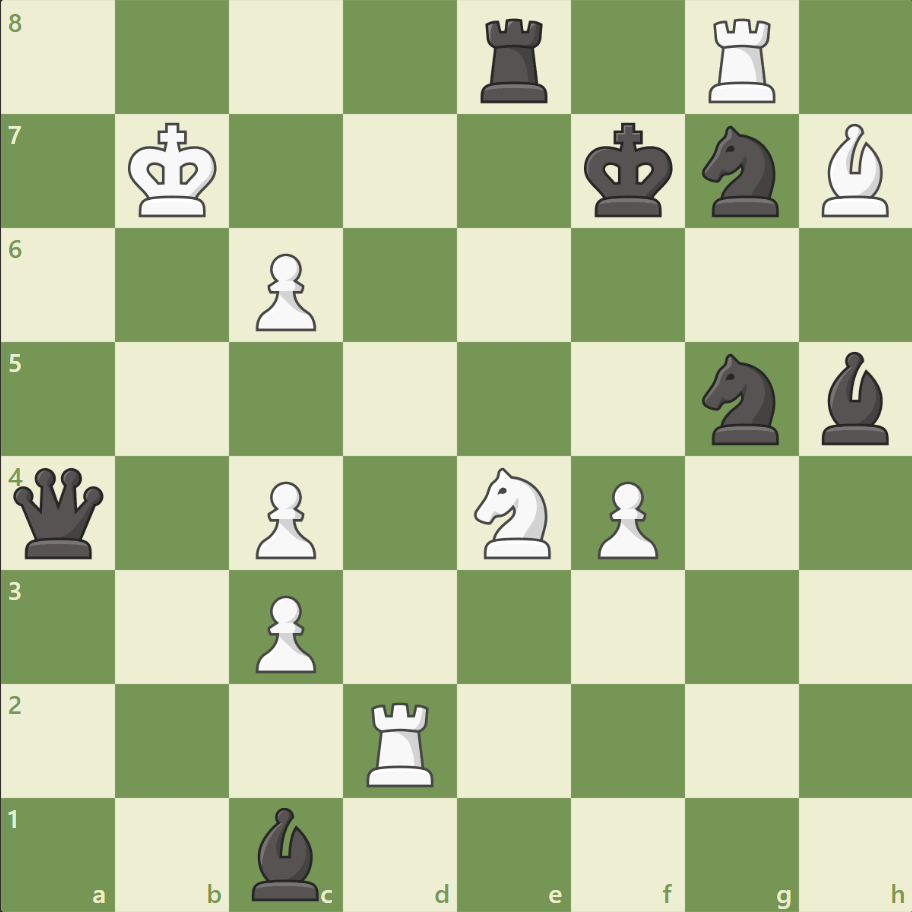B: (812, 120, 896, 222)
K: (124, 117, 224, 225)
N: (465, 461, 562, 564)
P: (247, 246, 322, 337), (247, 473, 322, 564), (247, 586, 322, 677), (588, 473, 662, 564)
R: (700, 12, 783, 109), (360, 693, 442, 790)
b: (244, 801, 328, 904), (812, 347, 896, 449)
k: (579, 117, 679, 225)
n: (692, 121, 789, 223), (692, 348, 789, 450)
q: (10, 463, 109, 562)
r: (473, 12, 556, 109)
